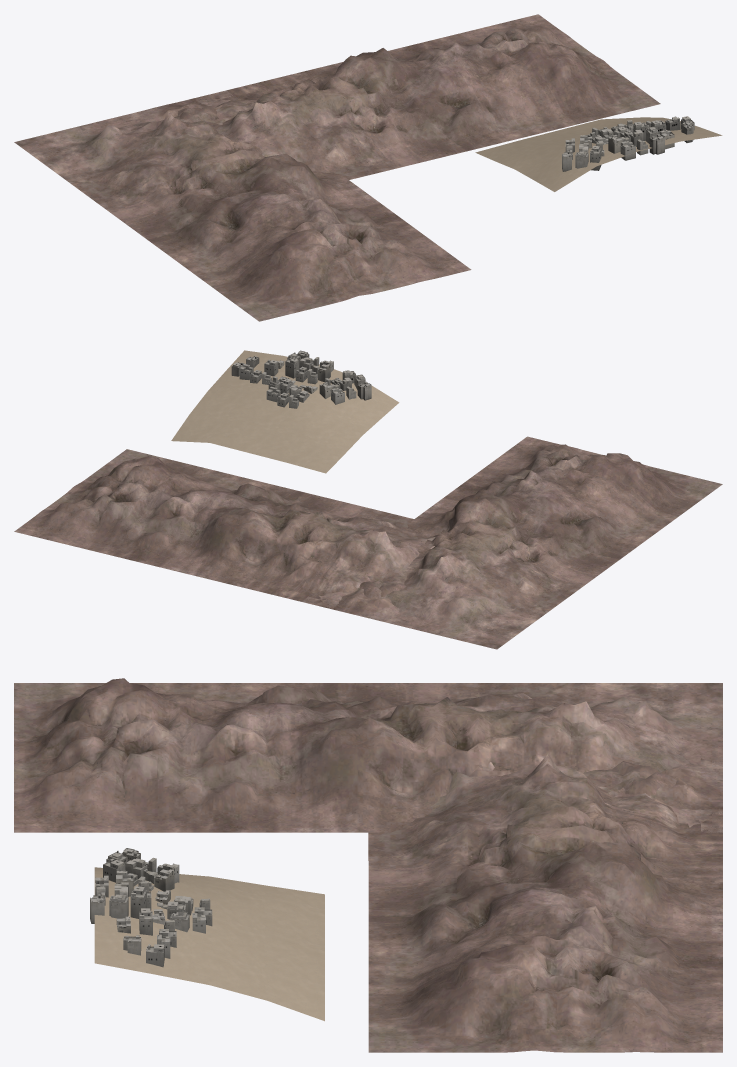
Rendered from desert_skybox.fbx.
3 views of the same model, one above another, from view 1: azimuth 30°, elevation 25°; view 2: azimuth 150°, elevation 25°; view 3: azimuth 270°, elevation 25° (orthographic). The views are drawn at different scales.
Parts seen in each view (by area): view 1: mountains, terrain, houses; view 2: mountains, terrain, houses; view 3: mountains, terrain, houses.
Part boxes in pixels (x1,y1,x2,y2): mountains: (14, 14, 660, 321); terrain: (475, 117, 722, 191); houses: (562, 116, 694, 171); mountains: (14, 436, 722, 649); terrain: (171, 350, 399, 473); houses: (231, 350, 371, 408); mountains: (14, 678, 722, 1052); terrain: (94, 867, 324, 1021); houses: (90, 848, 212, 967).
Size of the model in its own units: 4013 by 470 by 3251.
